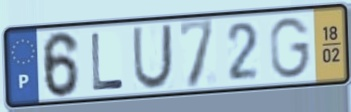2: (226, 20, 262, 84)
6: (40, 29, 83, 99)
7: (178, 17, 218, 92)
G: (268, 15, 313, 81)
L: (89, 30, 125, 92)
U: (131, 22, 175, 91)
